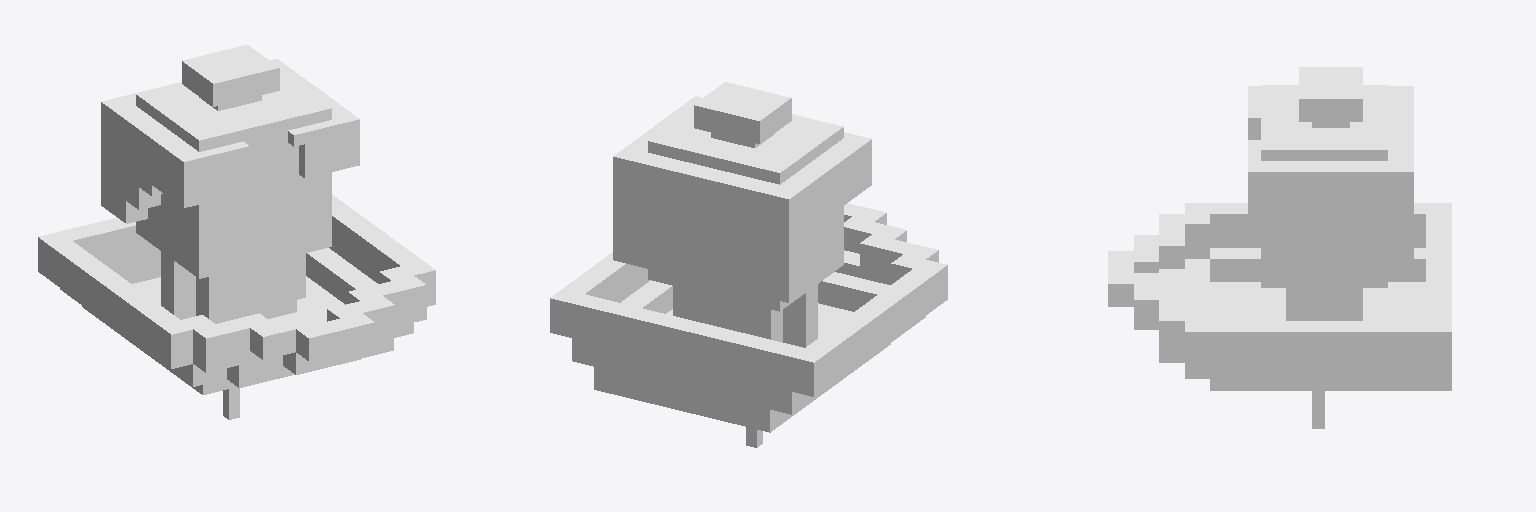
Rendered from momo_boat.obj.
The picture shows the model from 3 angles: view 1: azimuth 30°, elevation 25°; view 2: azimuth 150°, elevation 25°; view 3: azimuth 270°, elevation 25°; orthographic projection.
Parts seen in each view (by area): view 1: object 1; view 2: object 1; view 3: object 1.
Part boxes in pixels (x1,y1,x2,y2): object 1: (38,45,435,419); object 1: (550,82,947,447); object 1: (1108,67,1451,428).
Size of the model in its own units: 2.4 by 3 by 2.7.